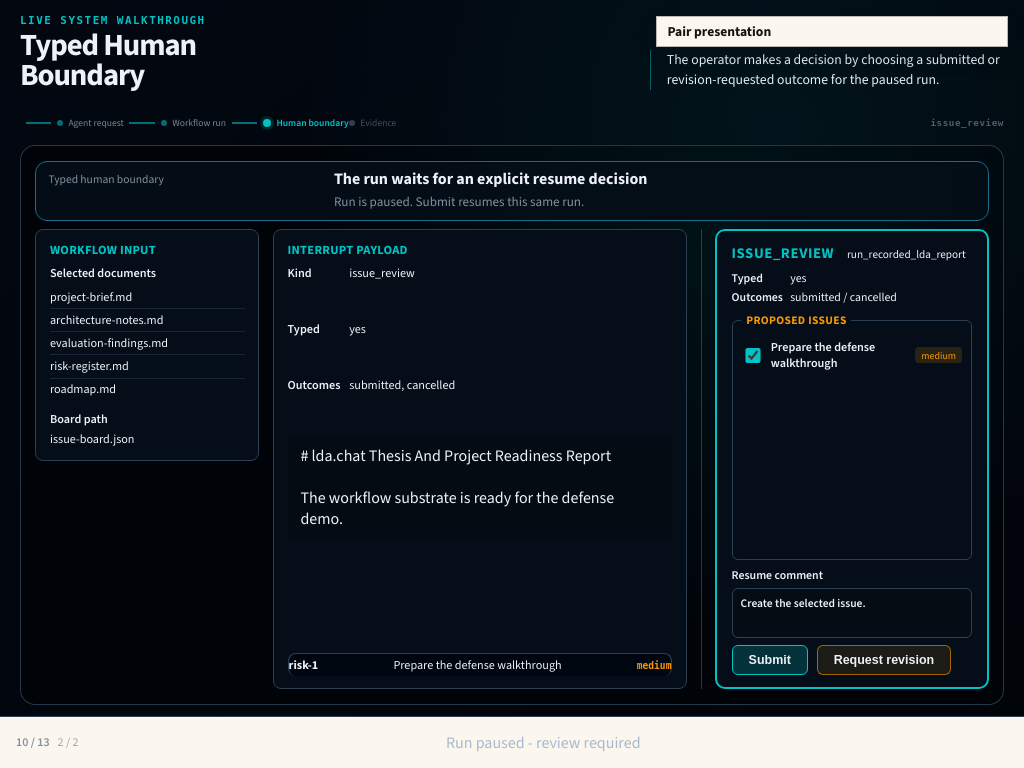
PresentationRoute › removes the paused footer label after approval is submitted
Check: the text "Run paused - review required" is shown, box [446, 732, 641, 753]
Click the button "Submit" at (770, 660), box [732, 645, 808, 675]
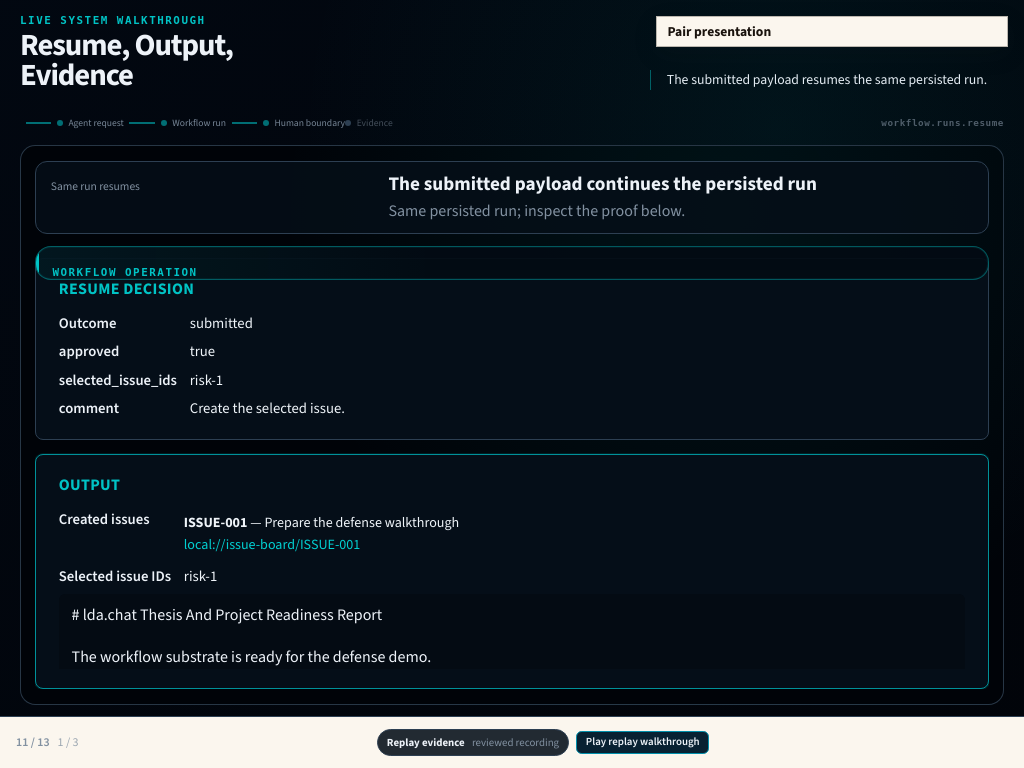
Check: the text "Run paused - review required" is gone
